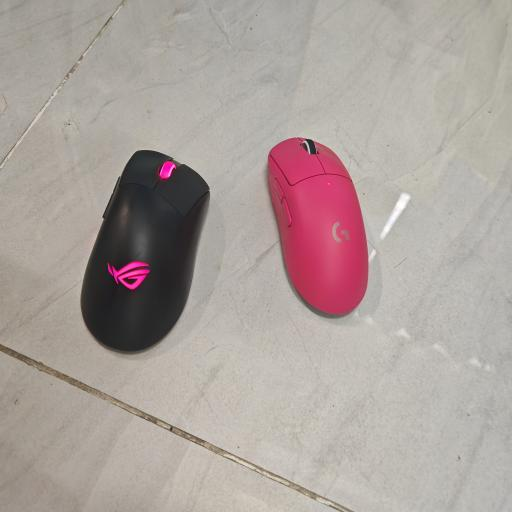mouse: (80, 151, 210, 351), (268, 138, 368, 314)
